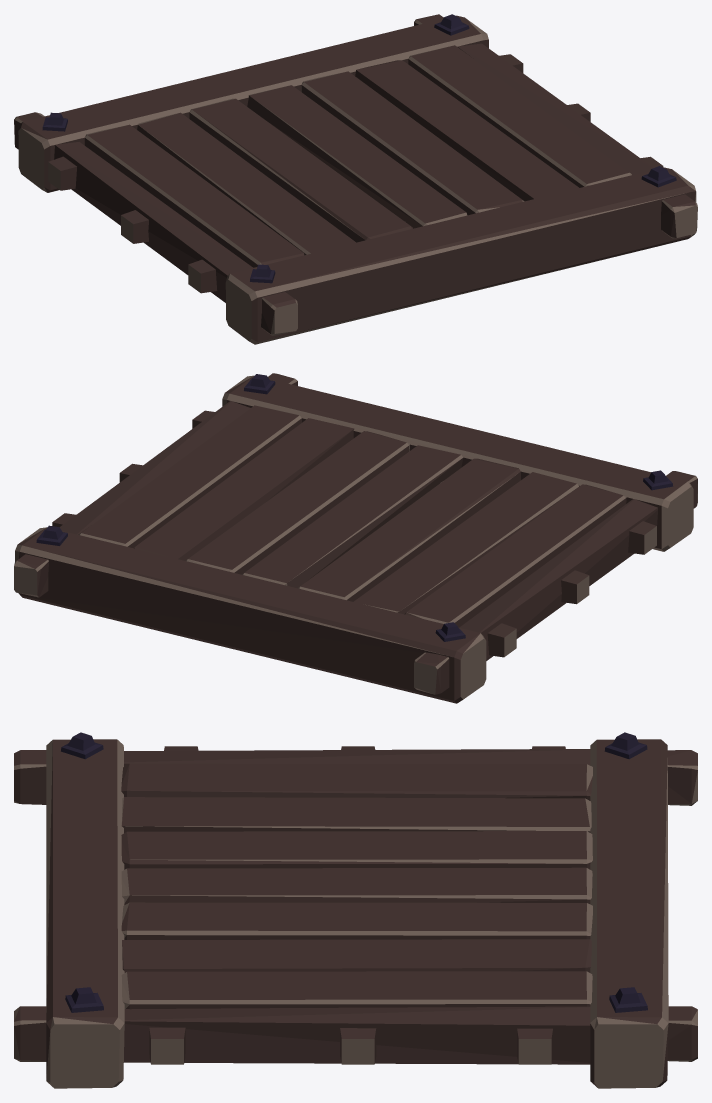
File: MCastle_HvyWoodFlr_01.FBX
3 renders of one model, top to bottom at view 1: azimuth 30°, elevation 25°; view 2: azimuth 150°, elevation 25°; view 3: azimuth 270°, elevation 25°, orthographic. The views are drawn at different scales.
Parts seen in each view (by area): view 1: MCastle_HvyWoodFlr_01_LOD0; view 2: MCastle_HvyWoodFlr_01_LOD0; view 3: MCastle_HvyWoodFlr_01_LOD0.
Part boxes in pixels (left/top/right/bottom): MCastle_HvyWoodFlr_01_LOD0: left=14, top=14, right=697, bottom=344; MCastle_HvyWoodFlr_01_LOD0: left=14, top=373, right=697, bottom=703; MCastle_HvyWoodFlr_01_LOD0: left=14, top=732, right=697, bottom=1088.
Size of what is drawn, in the model's own units: 161 by 21.91 by 159.
